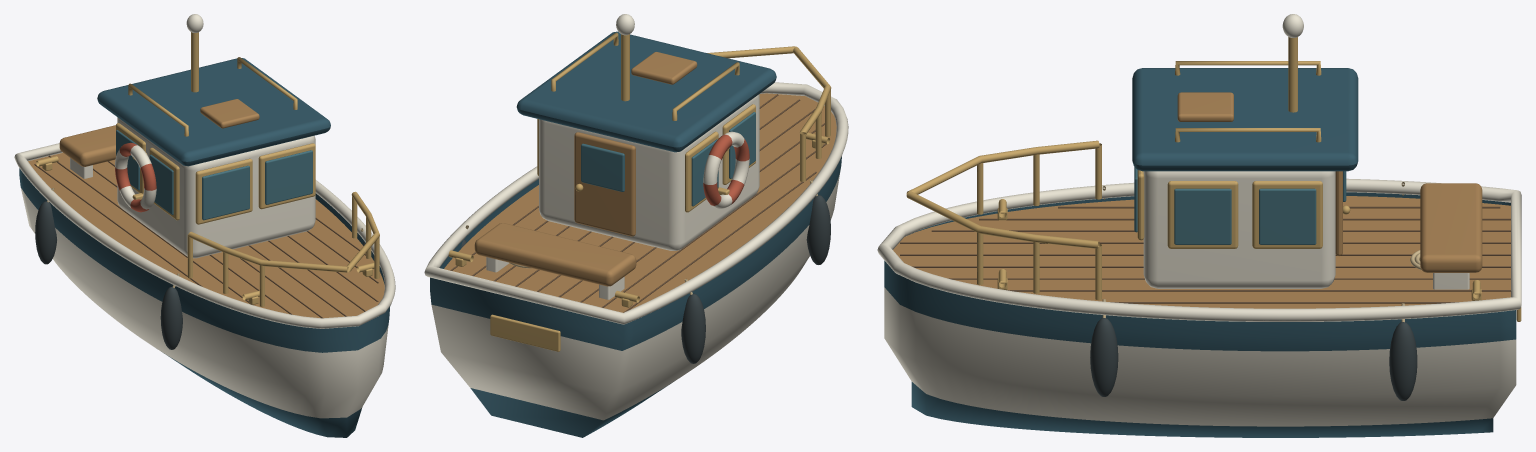
The model's file is pilot-launch-v336.glb.
The picture shows the model from 3 angles, left to right: view 1: azimuth 30°, elevation 25°; view 2: azimuth 150°, elevation 25°; view 3: azimuth 270°, elevation 25°; orthographic projection. The views are drawn at different scales.
Visible parts, largest first — view 1: Pilot launch | continuous rounded hull, Teak deck, Wheelhouse teak roof, Wheelhouse ivory shell, Continuous ivory gunwale, Front windshield blue glass, Front windshield blue glass.001, Continuous striped lifebuoy, Stern seat, Roof hatch, Curved bow rail, Hanging fender.001 (+12 smaller); view 2: Pilot launch | continuous rounded hull, Teak deck, Wheelhouse teak roof, Wheelhouse ivory shell, Continuous ivory gunwale, Stern seat, Cabin rear door, Continuous striped lifebuoy, Rear door light, Stern nameplate, Roof hatch, Hanging fender (+12 smaller); view 3: Pilot launch | continuous rounded hull, Teak deck, Wheelhouse teak roof, Continuous ivory gunwale, Wheelhouse ivory shell, Stern seat, Side window glass.002, Side window glass.003, Hanging fender.002, Hanging fender.003, Side window frame.003, Roof hatch (+14 smaller).
Boxes of the visible parts, bbox=[...] form: Pilot launch | continuous rounded hull: bbox=[19, 168, 389, 437]; Teak deck: bbox=[28, 153, 384, 318]; Wheelhouse teak roof: bbox=[97, 58, 330, 166]; Wheelhouse ivory shell: bbox=[117, 117, 315, 258]; Continuous ivory gunwale: bbox=[14, 143, 395, 328]; Front windshield blue glass: bbox=[202, 165, 249, 220]; Front windshield blue glass.001: bbox=[265, 150, 312, 204]; Continuous striped lifebuoy: bbox=[115, 142, 156, 212]; Stern seat: bbox=[59, 125, 115, 166]; Roof hatch: bbox=[200, 99, 259, 128]; Curved bow rail: bbox=[188, 231, 348, 272]; Hanging fender.001: bbox=[160, 287, 182, 349]; Pilot launch | continuous rounded hull: bbox=[430, 156, 841, 437]; Teak deck: bbox=[444, 93, 836, 312]; Wheelhouse teak roof: bbox=[516, 31, 776, 152]; Wheelhouse ivory shell: bbox=[539, 94, 759, 250]; Continuous ivory gunwale: bbox=[424, 82, 848, 324]; Stern seat: bbox=[474, 223, 636, 286]; Cabin rear door: bbox=[574, 132, 635, 236]; Continuous striped lifebuoy: bbox=[703, 131, 749, 208]; Rear door light: bbox=[581, 143, 624, 191]; Stern nameplate: bbox=[490, 314, 560, 351]; Roof hatch: bbox=[631, 52, 697, 84]; Hanging fender: bbox=[681, 293, 705, 363]; Pilot launch | continuous rounded hull: bbox=[884, 192, 1516, 437]; Teak deck: bbox=[893, 196, 1510, 308]; Wheelhouse teak roof: bbox=[1132, 68, 1358, 171]; Continuous ivory gunwale: bbox=[877, 178, 1521, 321]; Wheelhouse ivory shell: bbox=[1143, 171, 1335, 288]; Stern seat: bbox=[1420, 183, 1482, 272]; Side window glass.002: bbox=[1259, 188, 1316, 244]; Side window glass.003: bbox=[1174, 188, 1231, 244]; Hanging fender.002: bbox=[1389, 322, 1417, 400]; Hanging fender.003: bbox=[1090, 318, 1118, 396]; Side window frame.003: bbox=[1167, 181, 1238, 248]; Roof hatch: bbox=[1177, 92, 1233, 121].
Size of the model in its own units: 0.5898 by 0.767 by 1.14.
